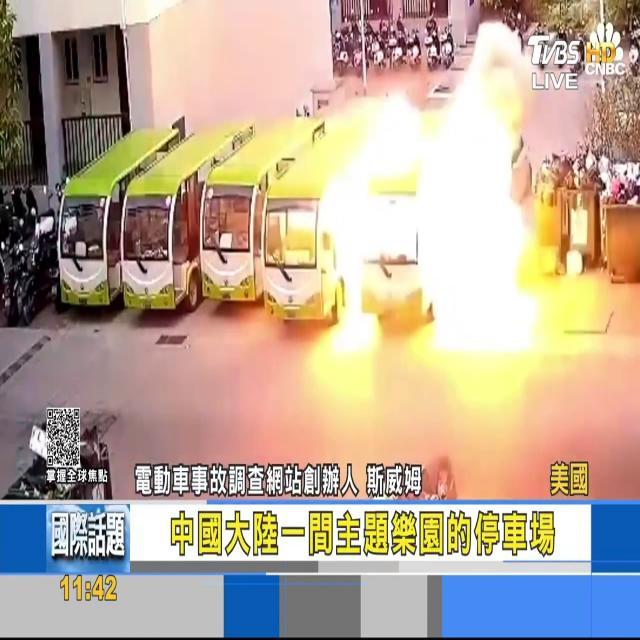Fire: (317, 26, 553, 372)
Smoke: (36, 5, 66, 193)
